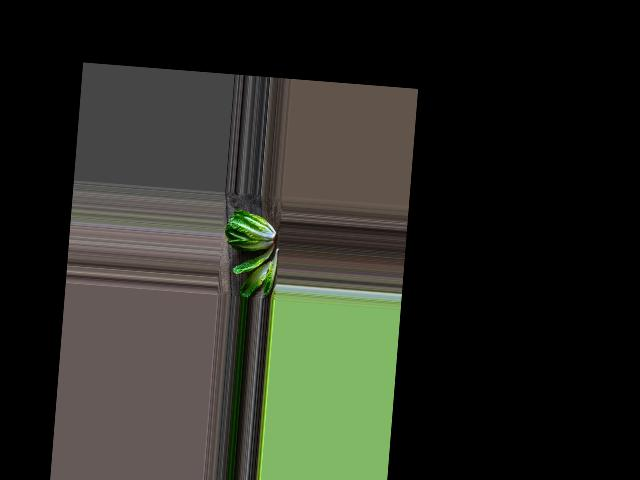lettuce: (224, 207, 276, 255)
